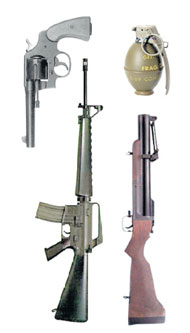pistol: (9, 17, 86, 143)
rifle: (126, 111, 174, 323), (64, 106, 109, 325)
